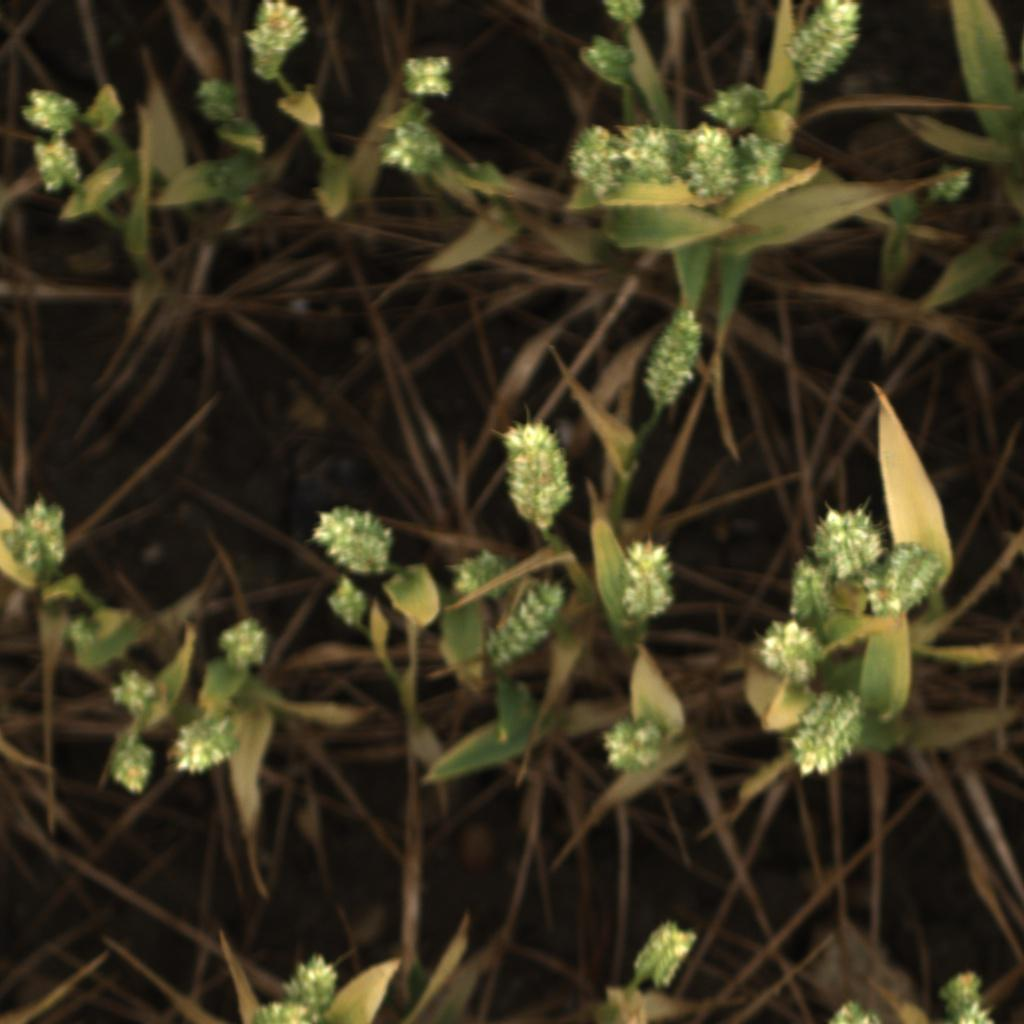0-0: (493, 420, 577, 524), (861, 533, 948, 623), (788, 683, 870, 777), (780, 0, 865, 87), (636, 305, 709, 406), (490, 581, 567, 668), (311, 503, 401, 576), (811, 502, 888, 580), (244, 0, 314, 84), (612, 536, 681, 621), (1, 489, 68, 573), (678, 126, 745, 207), (632, 915, 702, 992), (166, 712, 243, 781), (753, 616, 825, 681), (565, 123, 627, 198), (597, 716, 671, 777), (617, 121, 685, 187), (372, 119, 444, 179), (735, 130, 796, 197), (784, 552, 839, 626), (281, 950, 340, 1016), (572, 33, 639, 91), (195, 151, 265, 206), (940, 957, 997, 1023), (212, 615, 275, 674), (101, 738, 162, 798), (699, 79, 768, 132), (398, 47, 462, 104), (443, 546, 511, 596), (918, 163, 982, 216), (20, 80, 81, 133), (105, 667, 163, 721), (32, 137, 86, 195), (192, 73, 244, 130), (323, 576, 374, 633), (818, 994, 883, 1024), (247, 997, 314, 1024), (600, 0, 647, 24)
